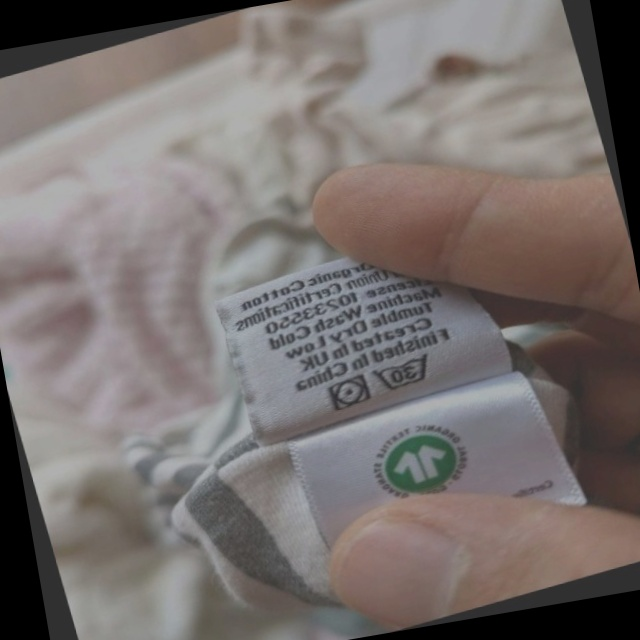30C: (367, 347, 441, 399)
tumble_dry_low: (322, 370, 376, 417)
